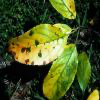Apple rust leaf: (4, 24, 70, 65)
